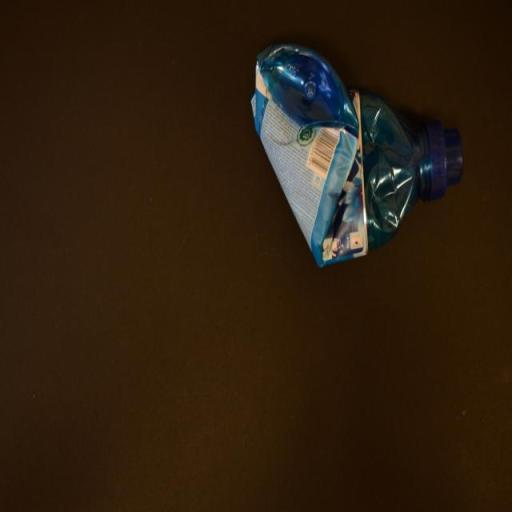plastic: (251, 39, 465, 268)
